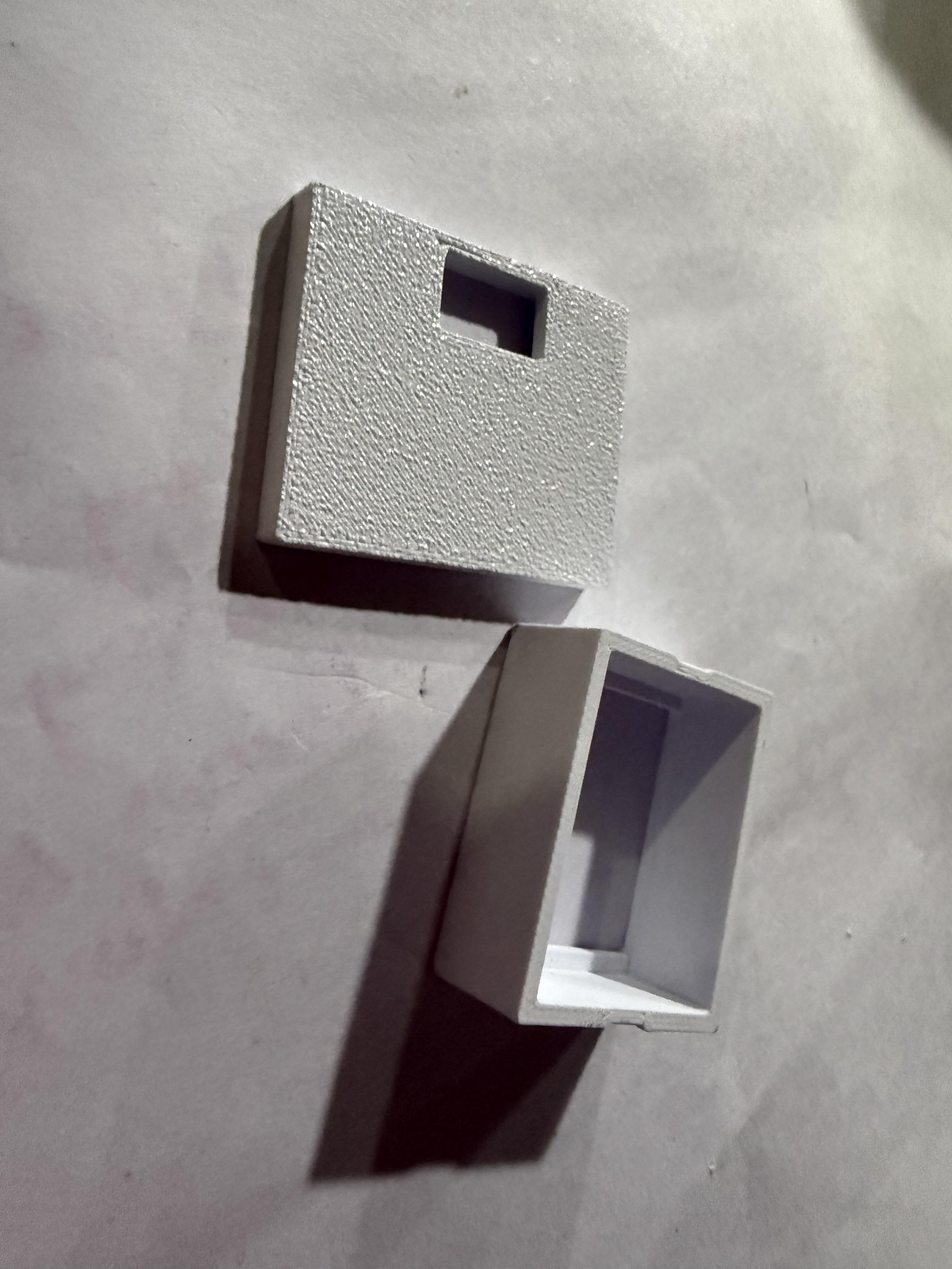enclosure: (255, 182, 630, 624), (432, 623, 772, 1033)
